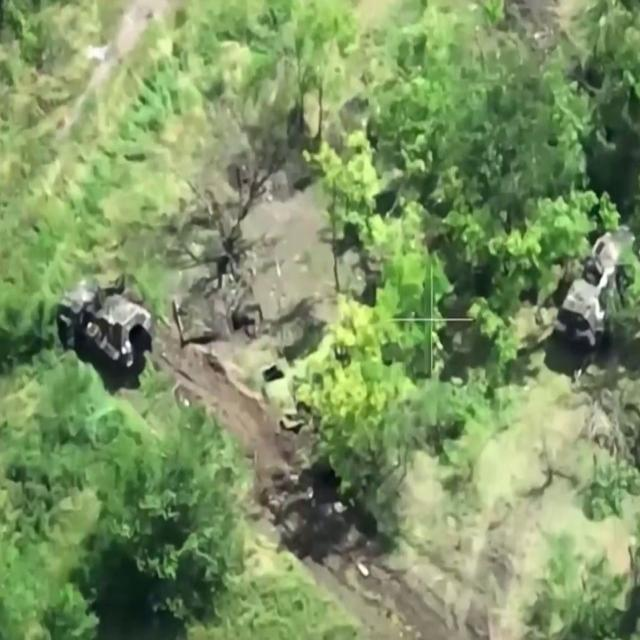Vehicle: (553, 225, 635, 361), (56, 278, 157, 378)
